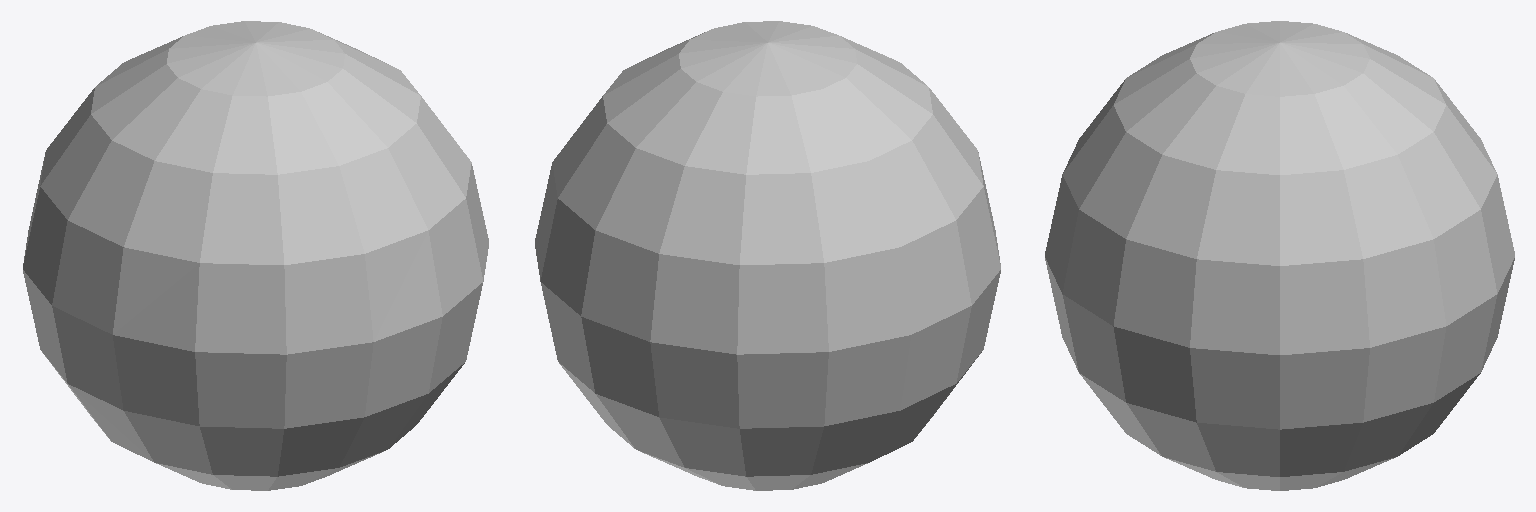
The model's file is roundParticle.obj.
The picture shows the model from 3 angles: view 1: azimuth 30°, elevation 25°; view 2: azimuth 150°, elevation 25°; view 3: azimuth 270°, elevation 25°; orthographic projection.
Parts seen in each view (by area): view 1: Sphere; view 2: Sphere; view 3: Sphere.
Part boxes in pixels (x1,y1,x2,y2): Sphere: (23, 21, 488, 490); Sphere: (535, 21, 1000, 490); Sphere: (1045, 21, 1514, 490).
Bounding box in the file's own units: 0.04 × 0.04 × 0.04.